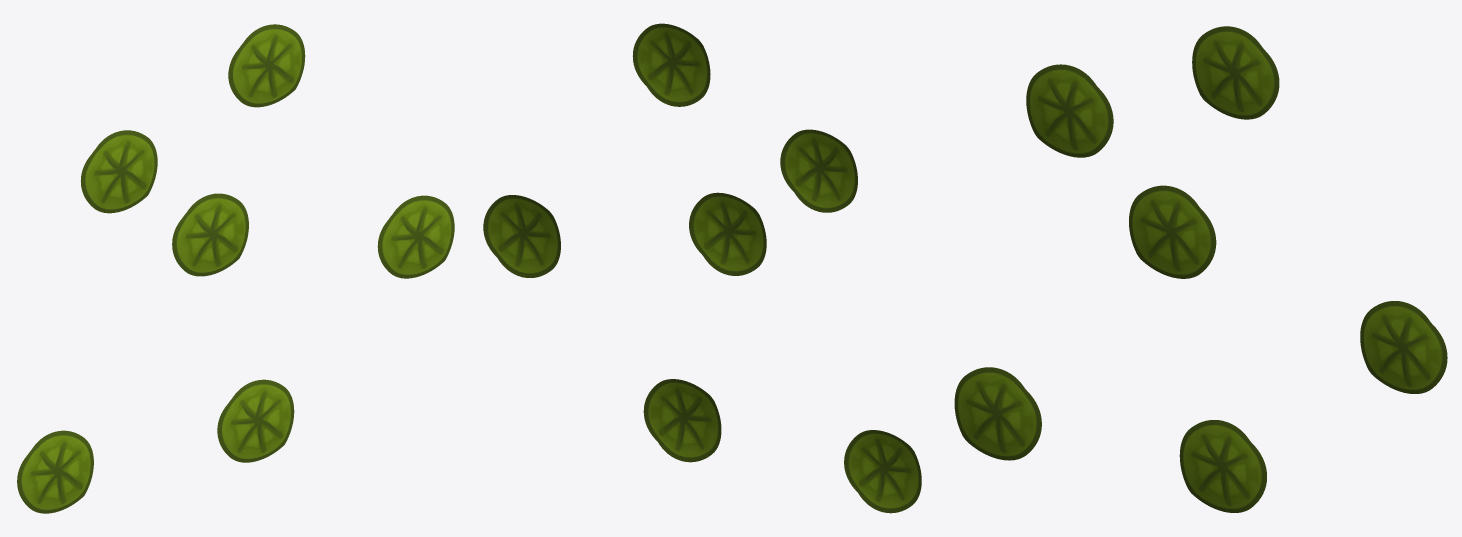
File: LilyPads.fbx
The picture shows the model from 3 angles, left to right: view 1: azimuth 30°, elevation 25°; view 2: azimuth 150°, elevation 25°; view 3: azimuth 330°, elevation 25°; orthographic projection. The views are drawn at different scales.
Visible parts, largest first — view 1: LilyPads; view 2: LilyPads; view 3: LilyPads.
Boxes of the visible parts, x1,y1,x2,y2 form: LilyPads: (17, 24, 454, 513); LilyPads: (483, 23, 921, 513); LilyPads: (954, 26, 1447, 512).
Bounding box in the file's own units: 1107 × 1052 × 9.05.
